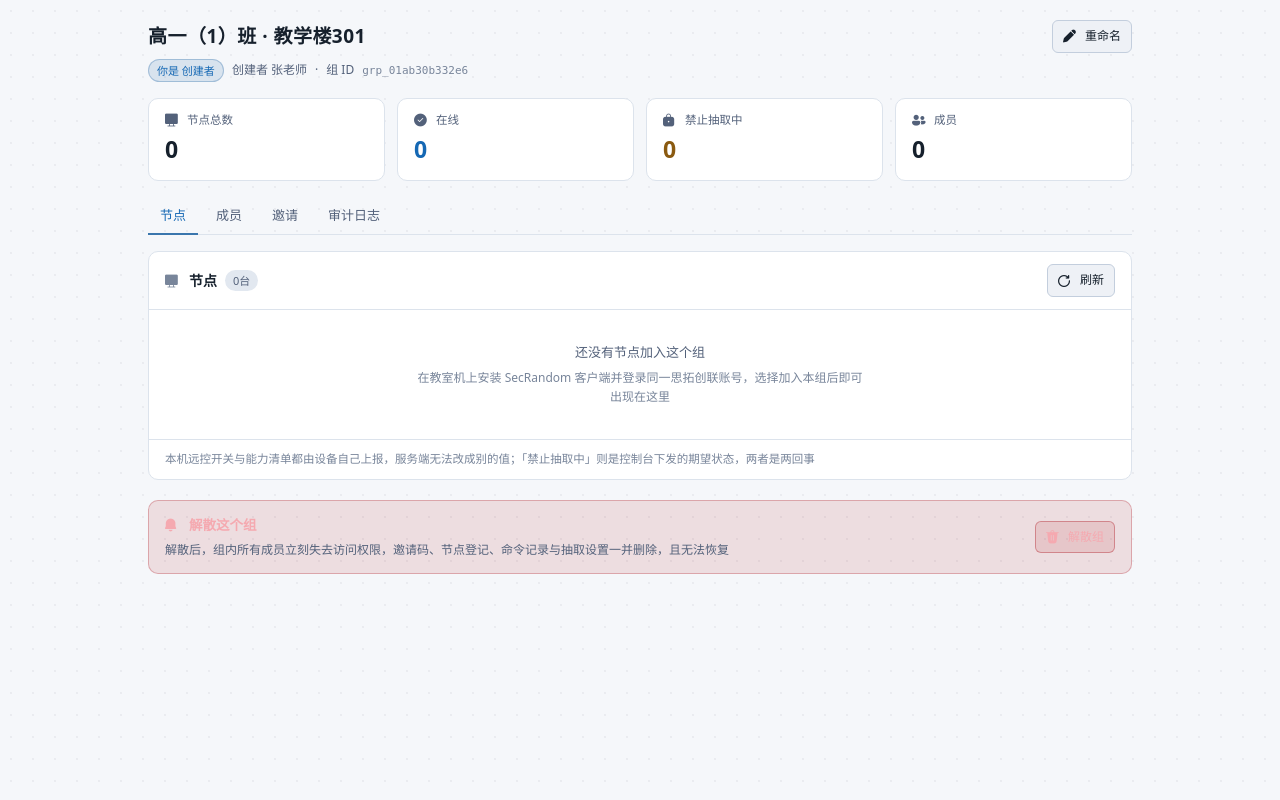
GroupDetailView 解散组 › 组名两侧的空格不算输错（组名入库前已被 Trim）
Click the button with test id "group-delete-open" at (1075, 537), box [1035,521,1115,553]
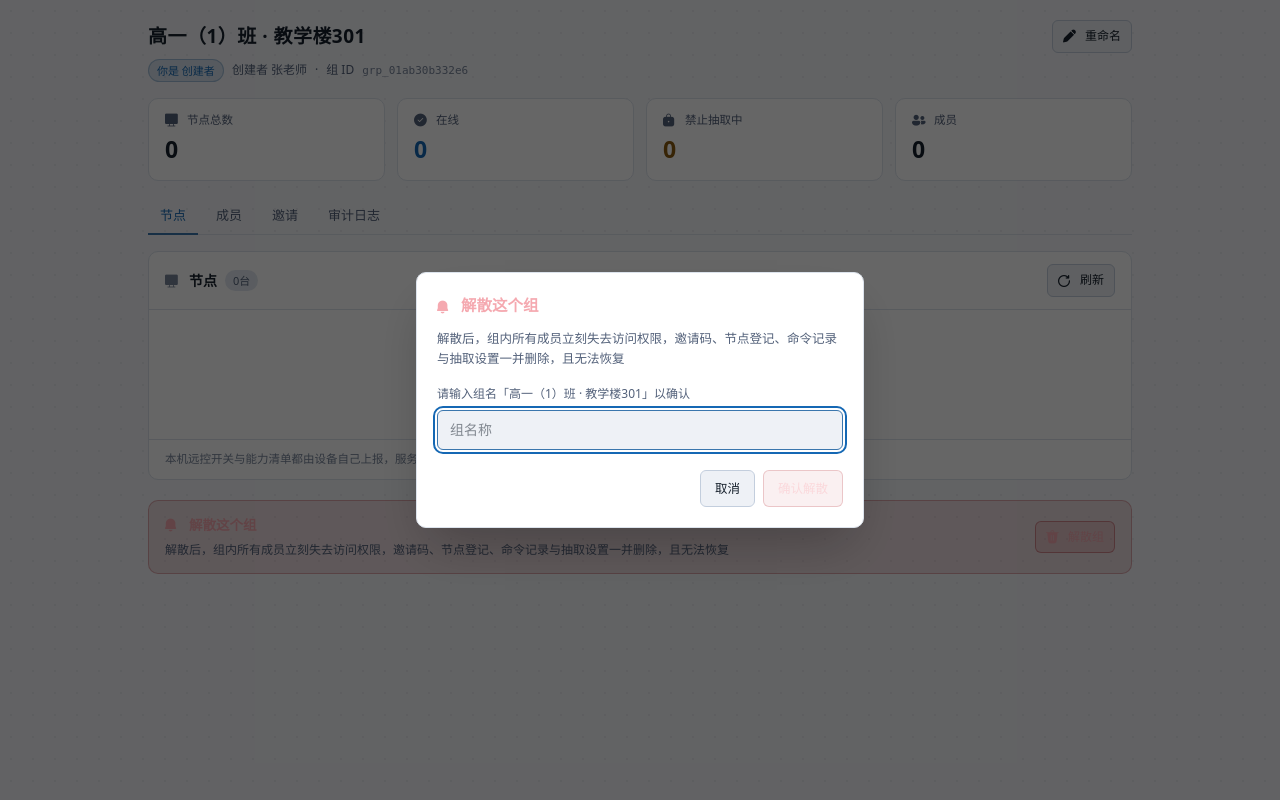
Type "  高一（1）班 · 教学楼301  " into the field with test id "delete-confirm-name" at (640, 430), box [437,410,843,450]
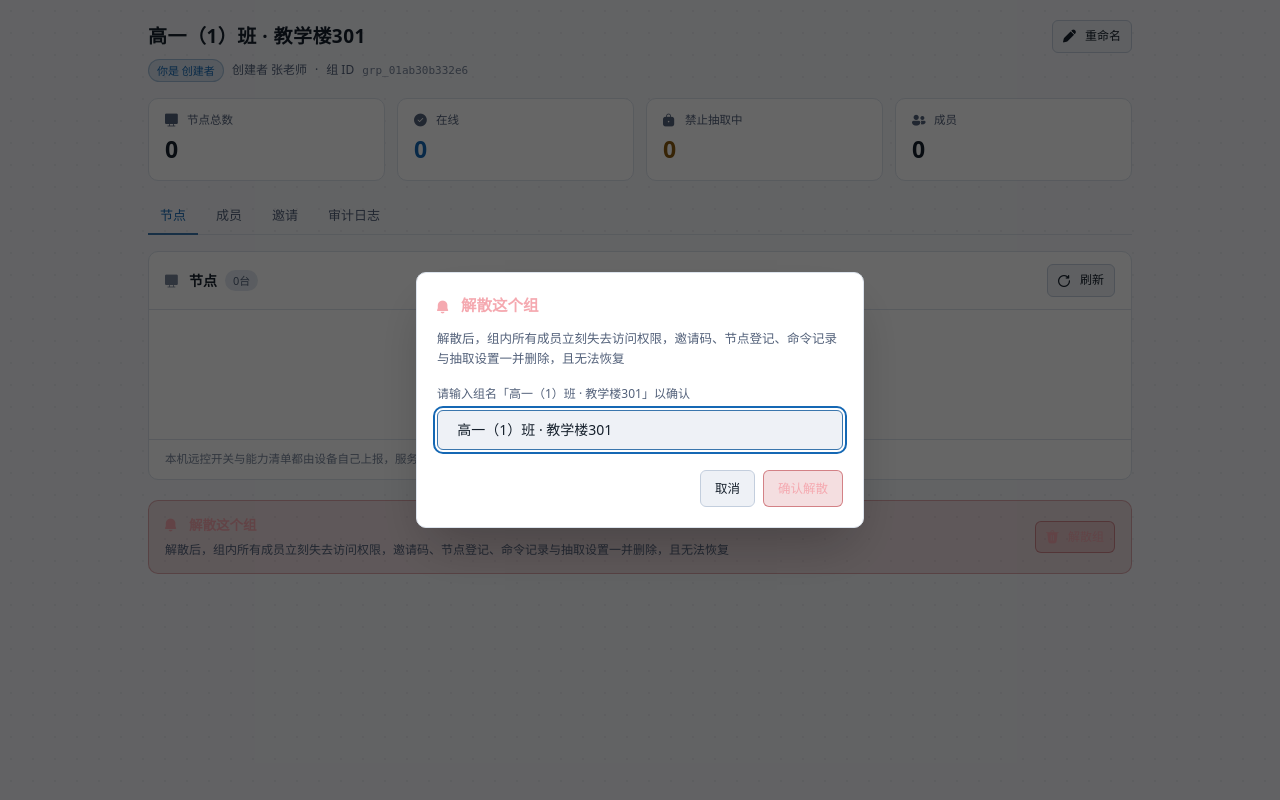
expect the button with test id "delete-submit" is enabled: met, box [763,470,843,507]
